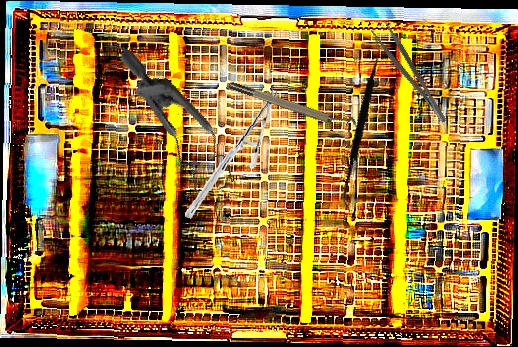Dressing Forceps: (369, 19, 450, 130)
Fixation Ring: (226, 73, 360, 137)
Needle Holder: (184, 81, 279, 227)
Spatula Surgical: (294, 36, 431, 213)
Speculum: (79, 48, 265, 212)
